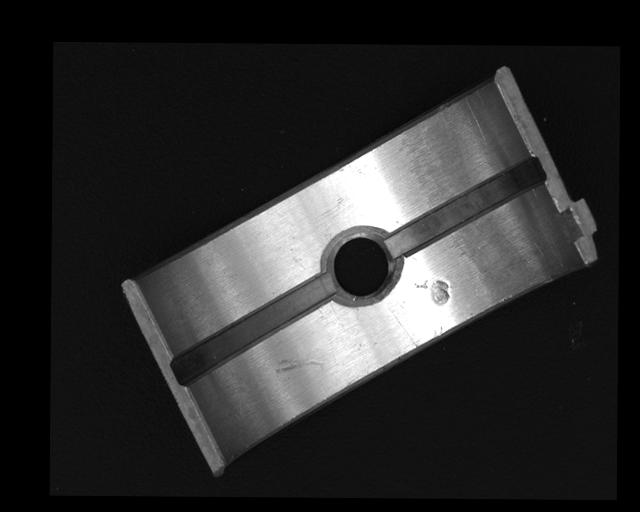bruise: (412, 278, 451, 307)
gap: (175, 272, 333, 387), (386, 157, 545, 258)
hole: (326, 227, 396, 306)
nick: (274, 355, 328, 375)
